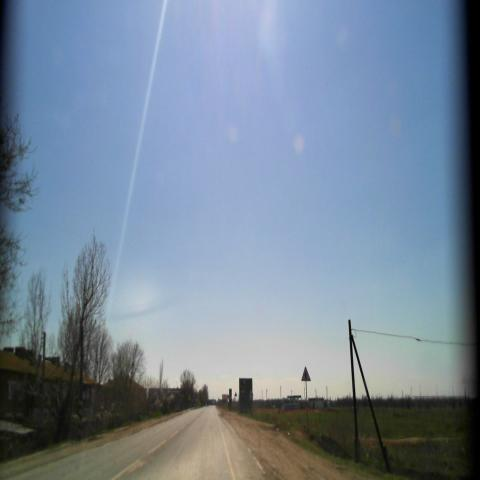2_3_3: (300, 366, 311, 384)
